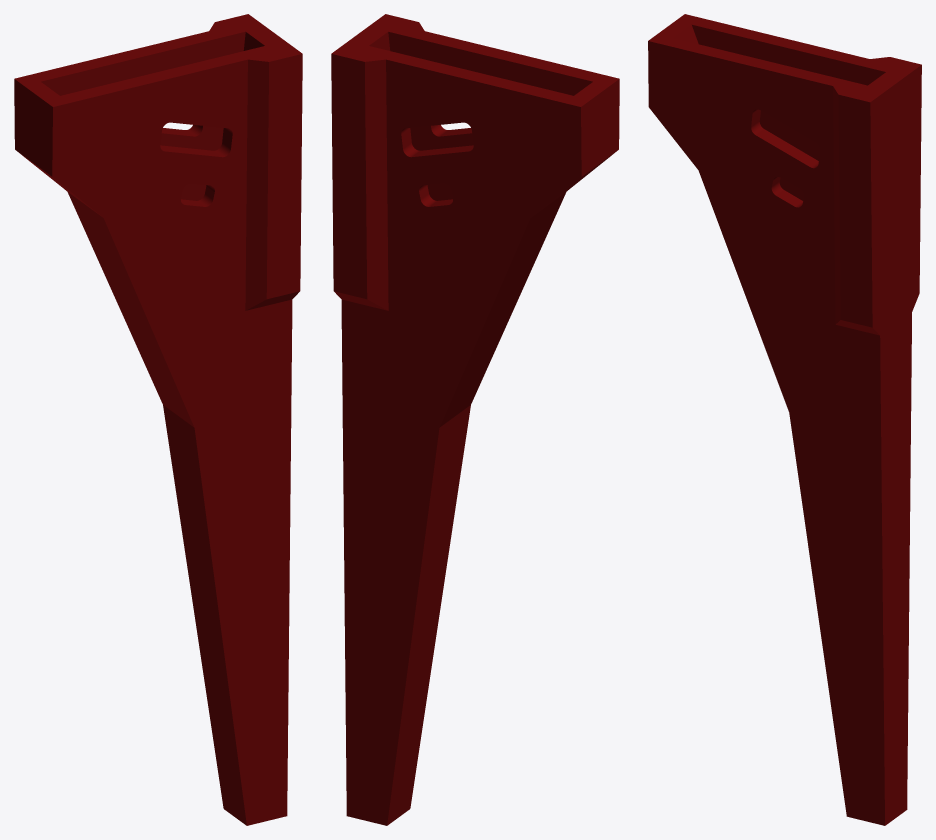
Rendered from f330_leg_110mm.dae.
The picture shows the model from 3 angles, left to right: view 1: azimuth 30°, elevation 25°; view 2: azimuth 150°, elevation 25°; view 3: azimuth 330°, elevation 25°; orthographic projection. The views are drawn at different scales.
Visible parts, largest first — view 1: f330_leg; view 2: f330_leg; view 3: f330_leg.
Boxes of the visible parts, x1,y1,x2,y2 form: f330_leg: (14,14,302,825); f330_leg: (331,14,619,825); f330_leg: (648,14,921,825).
Size of the model in its own units: 0.036 by 0.014 by 0.11.
